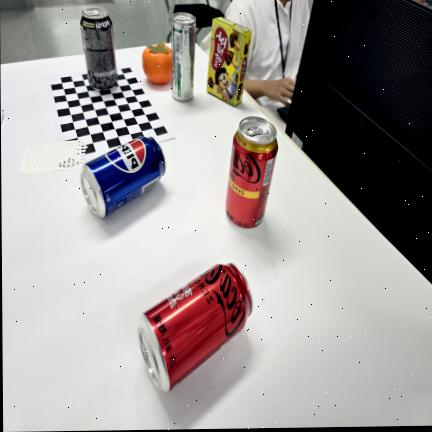can_coke_decaf: (224, 116, 279, 230)
can_coke_zero: (136, 262, 251, 392)
can_pepsi: (80, 134, 166, 219)
